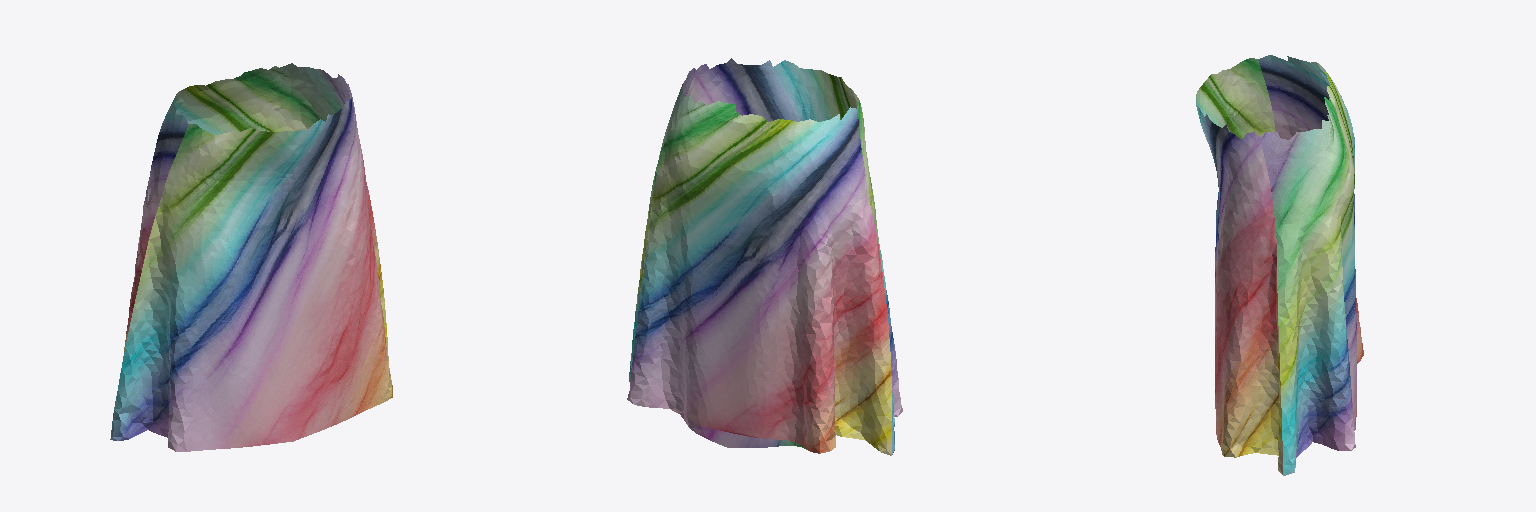
The picture shows the model from 3 angles: view 1: azimuth 30°, elevation 25°; view 2: azimuth 150°, elevation 25°; view 3: azimuth 270°, elevation 25°; orthographic projection.
Visible parts, largest first — view 1: FreeDress_Cloth_Shape.001; view 2: FreeDress_Cloth_Shape.001; view 3: FreeDress_Cloth_Shape.001.
Boxes of the visible parts, <box> form: FreeDress_Cloth_Shape.001: <box>110,63,392,451</box>; FreeDress_Cloth_Shape.001: <box>627,58,902,455</box>; FreeDress_Cloth_Shape.001: <box>1196,55,1363,475</box>.
Size of the model in its own units: 2.5 by 2.92 by 1.35.
Materials: 2 (1 with a texture image).